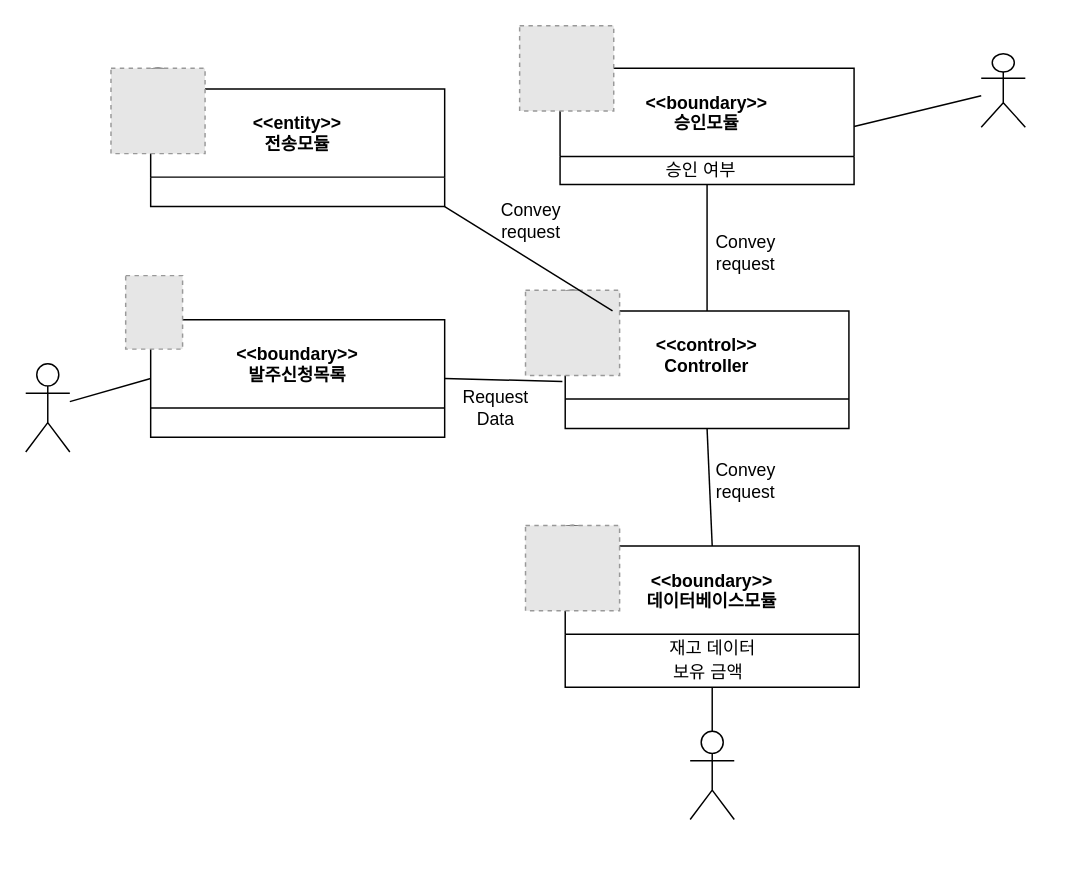
Some shapes in this 1072 by 876 pixel diagram are drawn without their labels. Grey dashed boxes stand in for pictures. The shapes that lost their labels are listed below. From the top down, each one's centre as x and y in pixels, then its label:
At (x=1002, y=89): "창고 관리자".
At (x=47, y=407): "점주".
At (x=711, y=775): "데이터베이스".
